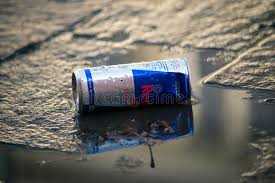can: (69, 58, 194, 112)
